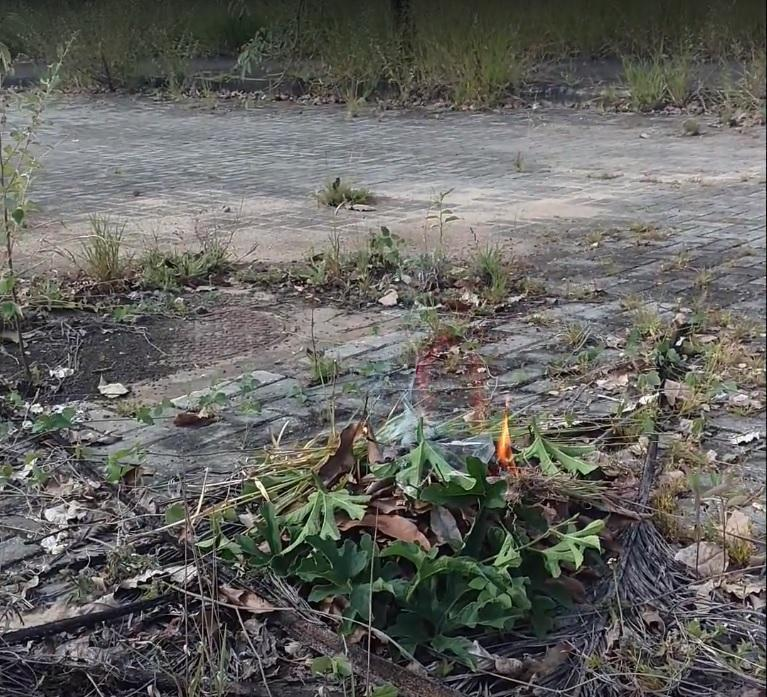fire: (493, 413, 519, 476)
